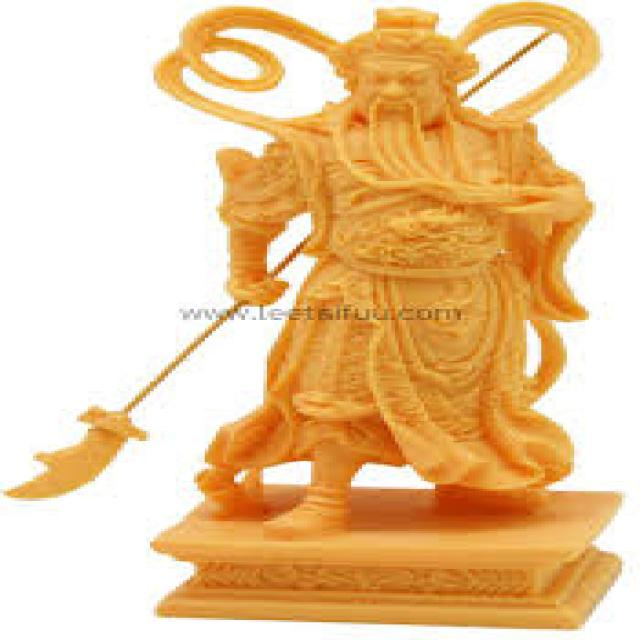Guan Yu: (200, 0, 610, 440)
